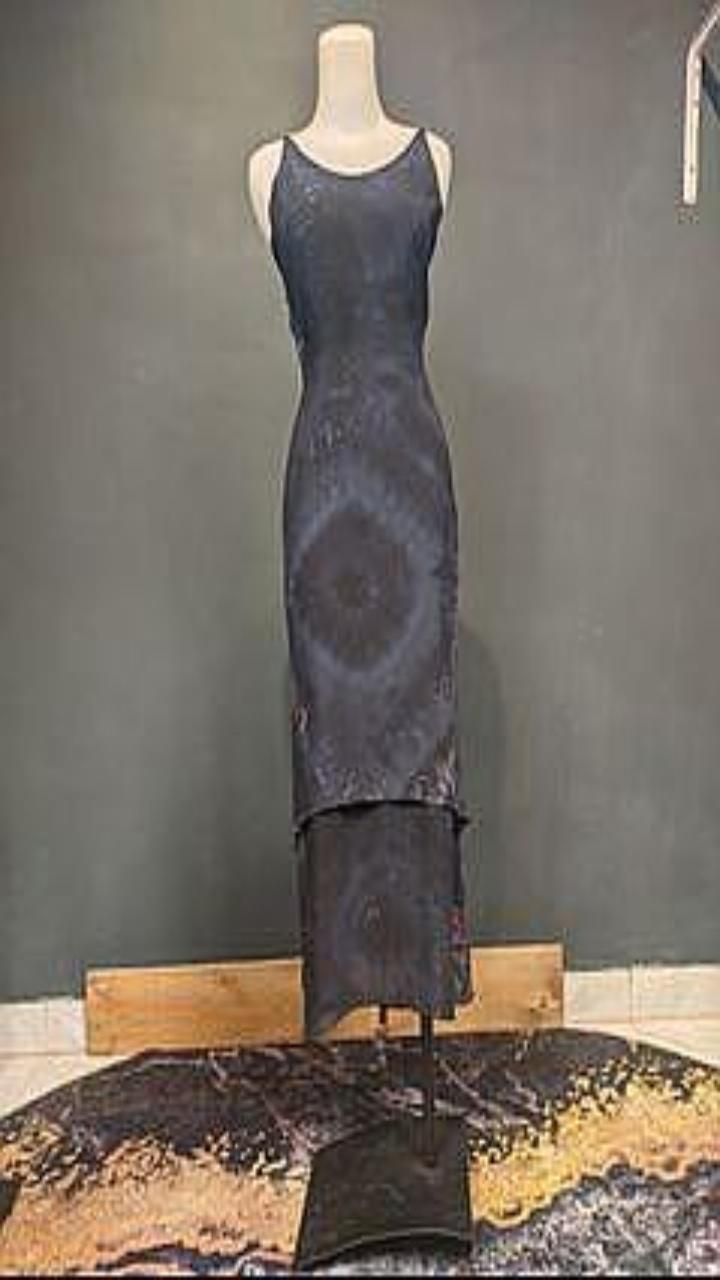Dresses: (270, 129, 470, 1035)
